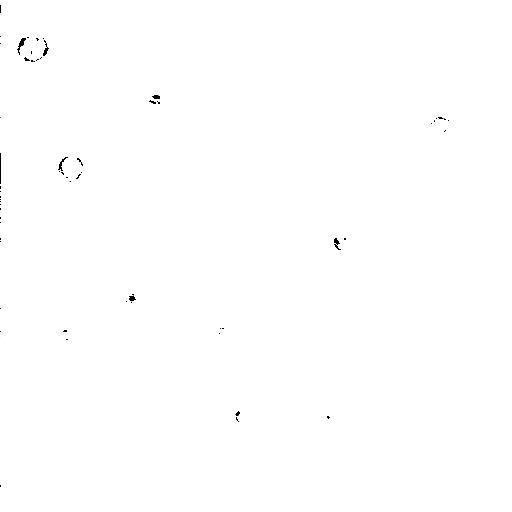micro-algae: (189, 0, 244, 51), (104, 273, 158, 321), (16, 30, 49, 61), (56, 151, 85, 182), (428, 114, 453, 142), (53, 326, 78, 350), (331, 228, 355, 251), (228, 407, 247, 427)
